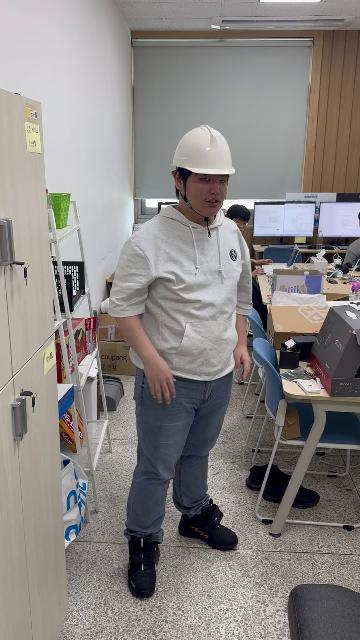helmet_worn: (170, 124, 237, 176)
shoe_not_worn: (247, 463, 317, 507), (246, 462, 278, 491)
shoe_worn: (178, 498, 239, 550), (127, 534, 160, 597)
vest_not_worn: (132, 214, 243, 390)
